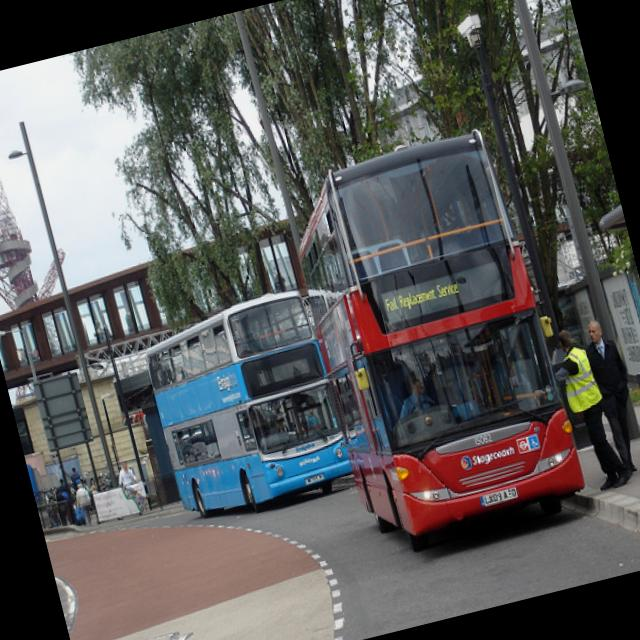Vehicle: (280, 126, 601, 574), (140, 286, 354, 524)
